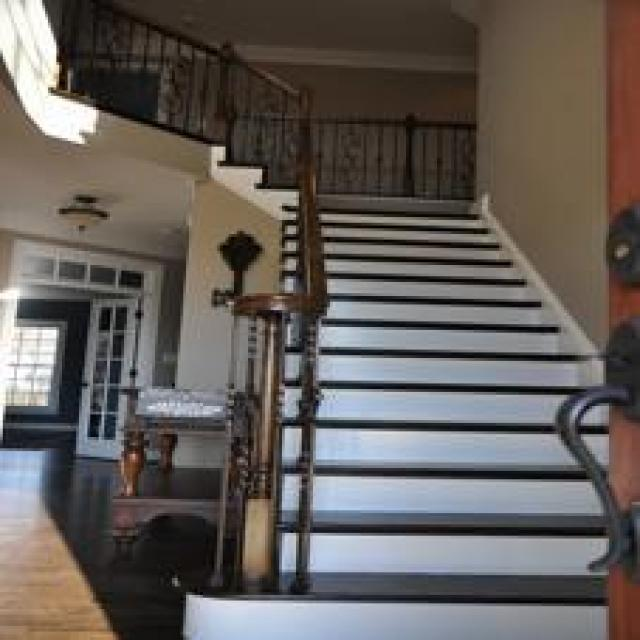upstair: (261, 469, 605, 638)
